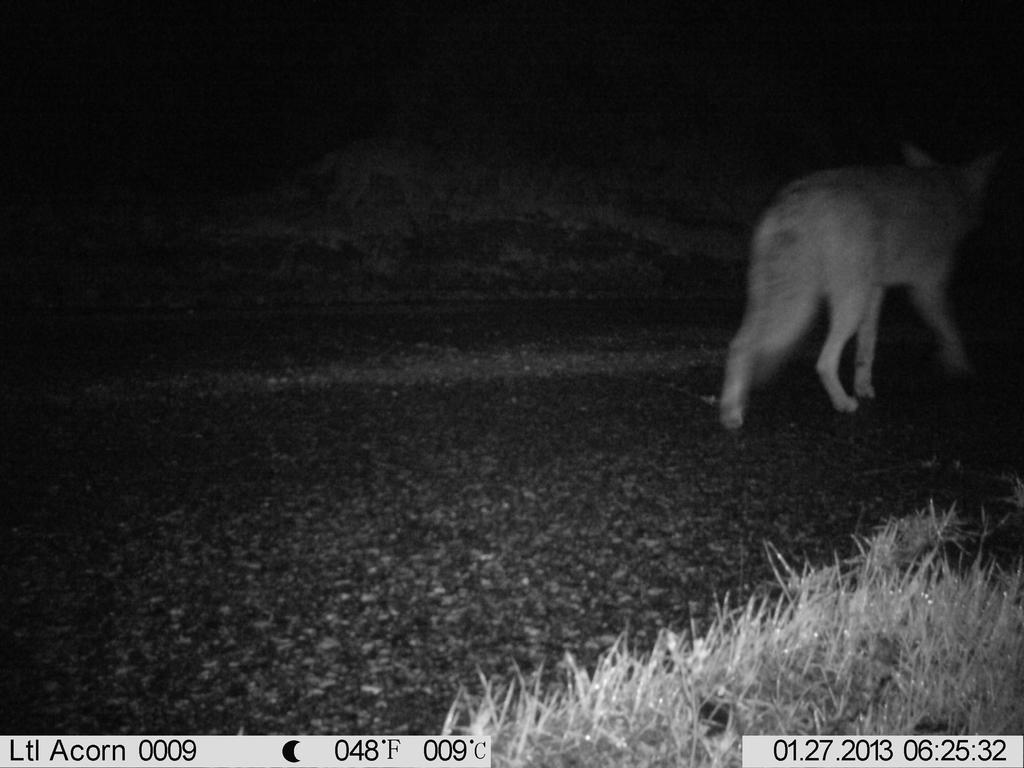coyote: (706, 114, 983, 443)
